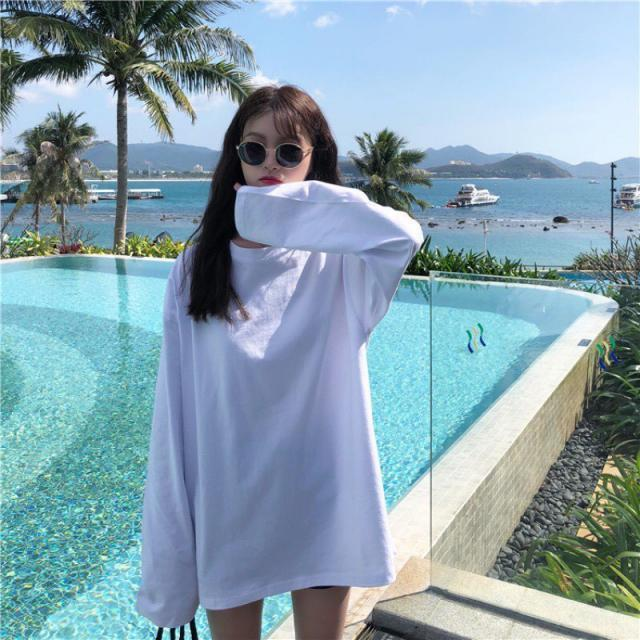Shirt: (137, 182, 424, 632)
